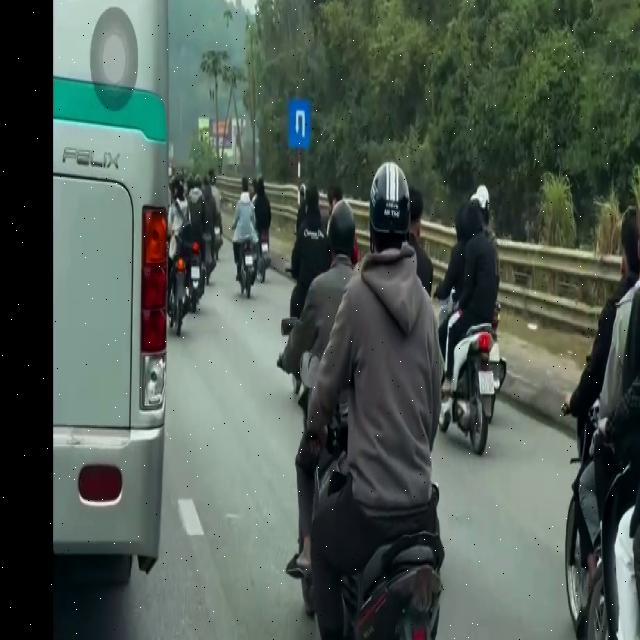helmet: (367, 159, 413, 301), (332, 199, 354, 270)
